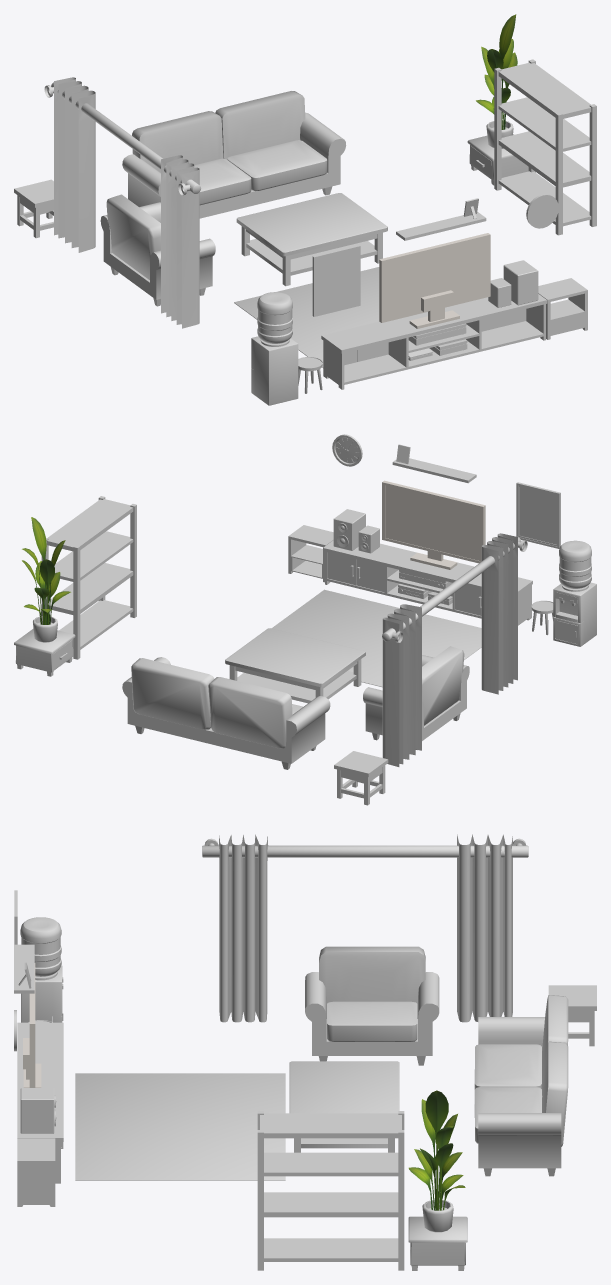
Rendered from LivingRoom_Set1.fbx.
3 renders of one model, top to bottom at view 1: azimuth 30°, elevation 25°; view 2: azimuth 150°, elevation 25°; view 3: azimuth 270°, elevation 25°, orthographic. The views are drawn at different scales.
Visible parts, largest first — view 1: Livingroom_Sofa_Couple, Livingroom_Window_Curtain, Cabinet_Big, Plane.005, Livingroom_Table, LivingRoom_TV_Screen, Livingroom_Sofa_Small, Water_Machine, LivingRoom_Matt, LivingRoom_Wall_Picture, Cabinet_Big.001, Pot_Plant_05.002 (+7 smaller); view 2: Livingroom_Sofa_Couple, Livingroom_Window_Curtain, Cabinet_Big, LivingRoom_Matt, Plane.005, Livingroom_Table, LivingRoom_TV_Screen, Livingroom_Sofa_Small, Water_Machine, LivingRoom_Wall_Picture, Pot_Plant_05.002, LivingRoom_Stool (+5 smaller); view 3: Livingroom_Window_Curtain, LivingRoom_Matt, Cabinet_Big, Livingroom_Sofa_Couple, Livingroom_Sofa_Small, Livingroom_Table, Plane.005, Pot_Plant_05.002, Water_Machine, Cabinet_Big.001, LivingRoom_Cabinet_Small, Plane.001 (+2 smaller).
Part boxes in pixels (x1,y1,x2,y2): Livingroom_Sofa_Couple: [122, 91, 346, 218]; Livingroom_Window_Curtain: [44, 77, 200, 328]; Cabinet_Big: [494, 59, 596, 235]; Plane.005: [321, 212, 547, 389]; Livingroom_Table: [236, 193, 387, 286]; LivingRoom_TV_Screen: [379, 233, 490, 328]; Livingroom_Sofa_Small: [100, 194, 215, 306]; Water_Machine: [251, 292, 298, 405]; LivingRoom_Matt: [234, 267, 379, 367]; LivingRoom_Wall_Picture: [312, 245, 360, 316]; Cabinet_Big.001: [538, 278, 587, 339]; Pot_Plant_05.002: [476, 14, 517, 148]; Livingroom_Sofa_Couple: [122, 657, 330, 769]; Livingroom_Window_Curtain: [382, 533, 527, 766]; Cabinet_Big: [41, 496, 136, 659]; LivingRoom_Matt: [272, 589, 481, 687]; Plane.005: [323, 458, 532, 625]; Livingroom_Table: [225, 628, 365, 703]; LivingRoom_TV_Screen: [382, 480, 485, 569]; Livingroom_Sofa_Small: [363, 646, 469, 749]; Water_Machine: [553, 540, 596, 646]; LivingRoom_Wall_Picture: [516, 482, 560, 548]; Pot_Plant_05.002: [22, 517, 70, 642]; LivingRoom_Stool: [334, 751, 388, 805]; Livingroom_Window_Curtain: [202, 834, 528, 1022]; LivingRoom_Matt: [75, 1073, 285, 1180]; Cabinet_Big: [257, 1111, 404, 1270]; Livingroom_Sofa_Couple: [474, 995, 568, 1176]; Livingroom_Sofa_Small: [305, 946, 439, 1065]; Livingroom_Table: [289, 1061, 399, 1152]; Plane.005: [14, 944, 63, 1183]; Pot_Plant_05.002: [408, 1090, 465, 1232]; Water_Machine: [20, 917, 63, 1022]; Cabinet_Big.001: [17, 1138, 55, 1206]; LivingRoom_Cabinet_Small: [408, 1216, 467, 1270]; Plane.001: [20, 1088, 56, 1133].
Size of the model in its own units: 829 by 305 by 830.
